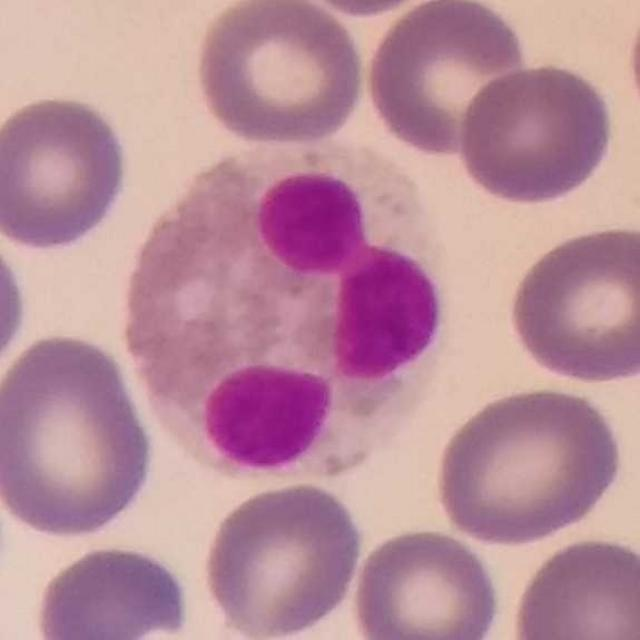Eosinophil: (107, 127, 452, 482)
RBC: (0, 327, 161, 542), (428, 382, 628, 546), (197, 477, 367, 640), (360, 0, 533, 160), (190, 0, 368, 149), (453, 58, 619, 208), (503, 220, 640, 388), (0, 89, 134, 254), (347, 523, 504, 640), (29, 538, 196, 640), (507, 533, 639, 640), (0, 211, 31, 392), (282, 0, 448, 19)
